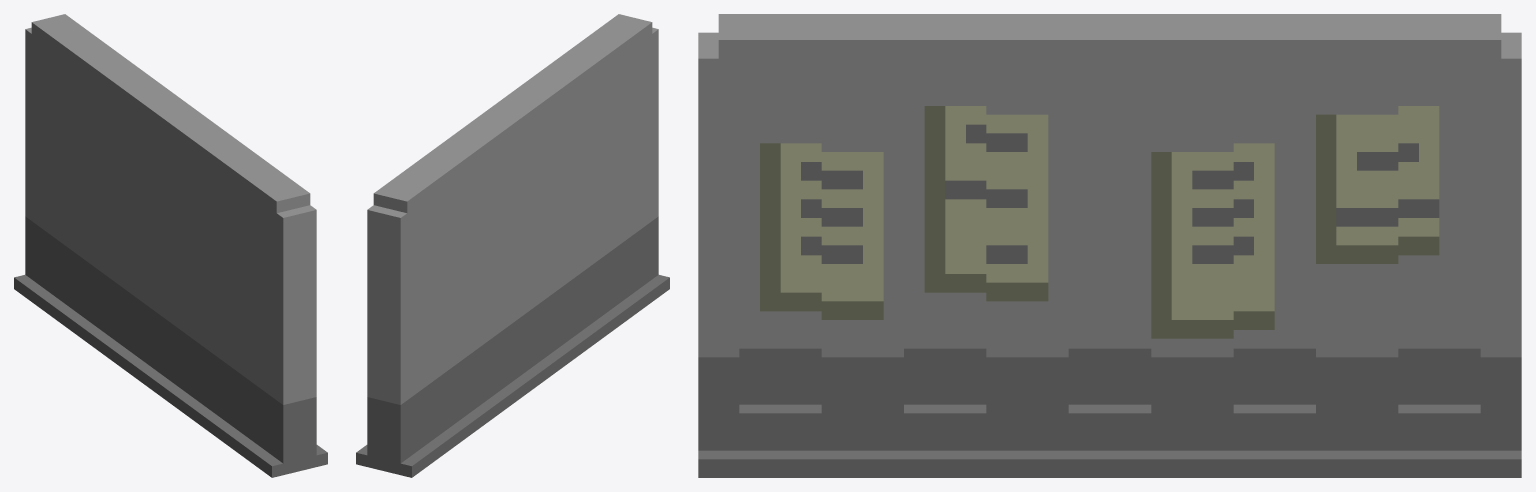
Rendered from All-20-Zabor_3.obj.
3 renders of one model, left to right at view 1: azimuth 30°, elevation 25°; view 2: azimuth 150°, elevation 25°; view 3: azimuth 270°, elevation 25°, orthographic. The views are drawn at different scales.
Visible parts, largest first — view 1: Zabor_3; view 2: Zabor_3; view 3: Zabor_3.
Boxes of the visible parts, x1,y1,x2,y2 form: Zabor_3: (14, 14, 327, 477); Zabor_3: (356, 14, 669, 477); Zabor_3: (698, 14, 1521, 477).
Bounding box in the file's own units: 0.5 × 2.3 × 4.
Materials: 1 (1 with a texture image).
